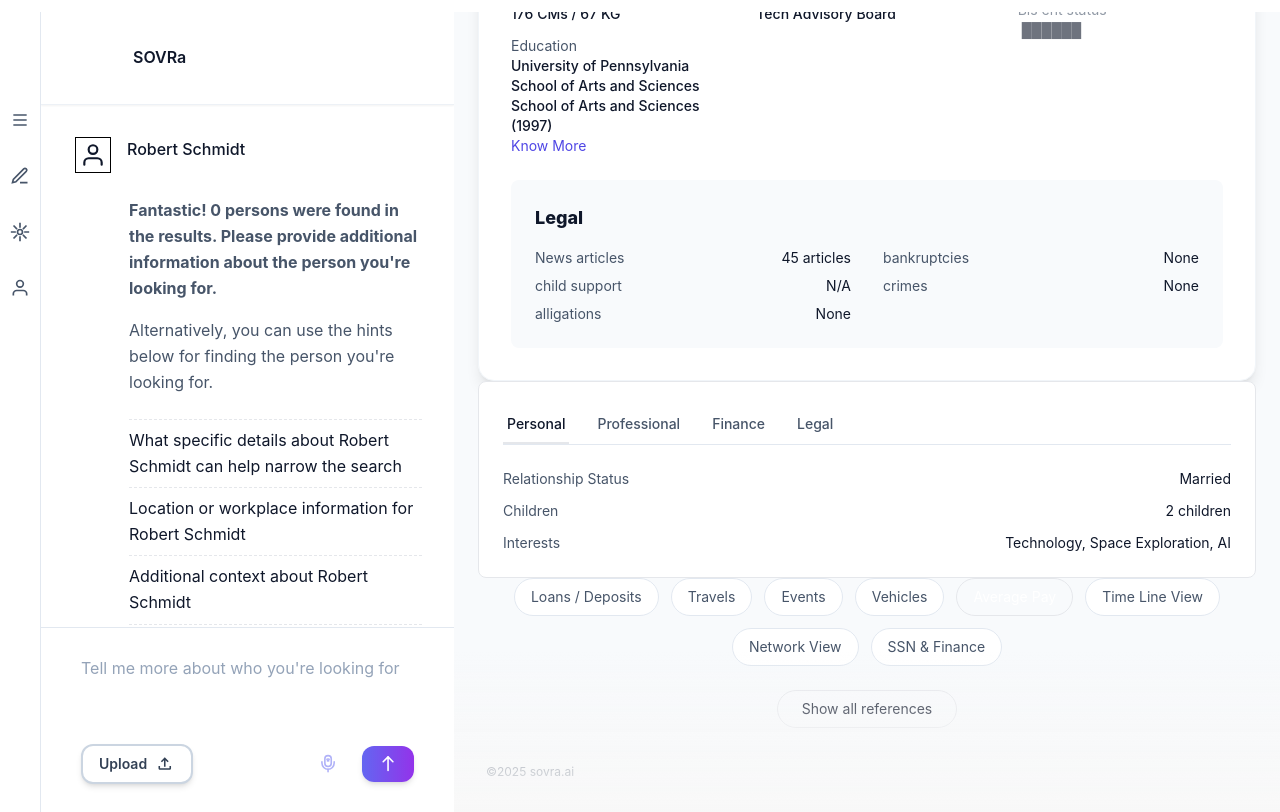
Test: SearchDetail Integration Tests › allows tab switching in category section
(page scrolled)
What coordinates should you click on to do the following:
click the button "Professional"
I would click on:
 (639, 425)
Its box is top-left (593, 406), bottom-right (684, 444).
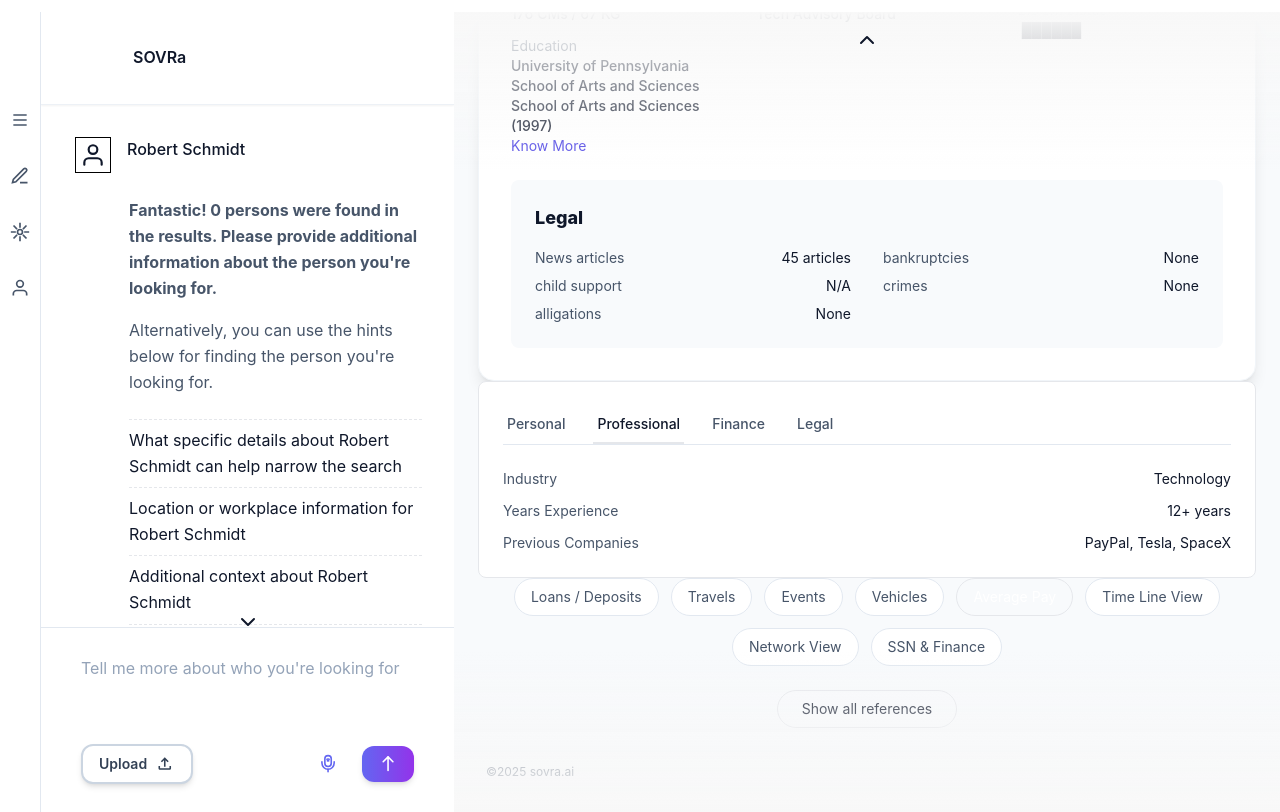
Expected: the text "Technology" is shown, top-left (1154, 470), bottom-right (1231, 487)
Expected: the text "Industry" is shown, top-left (503, 469), bottom-right (557, 489)
Expected: the text "Years Experience" is shown, top-left (503, 501), bottom-right (618, 521)
